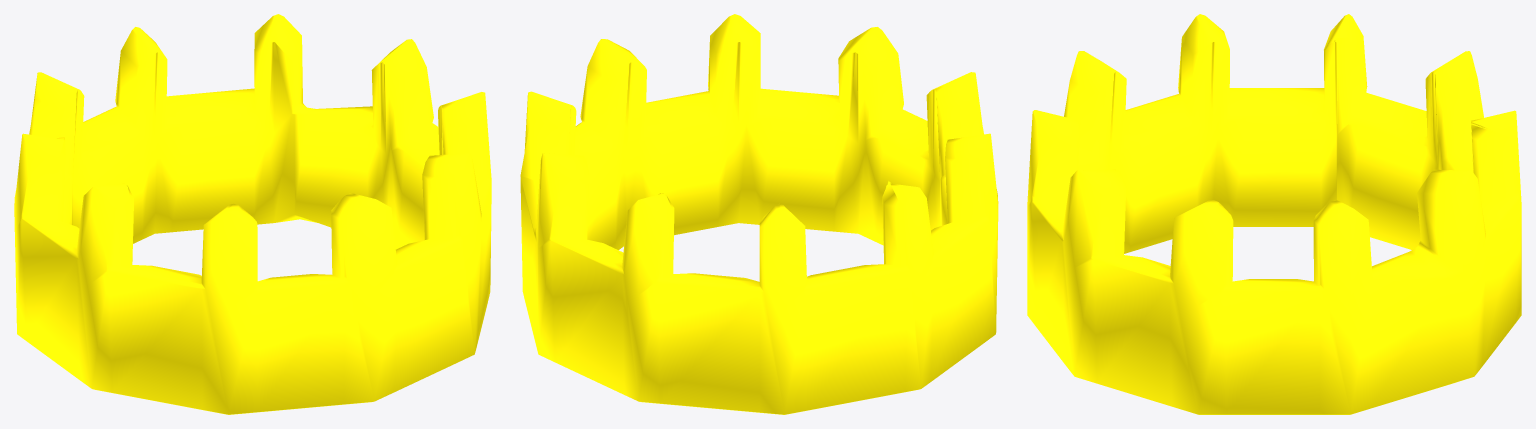
The model's file is MadeByJawns_ItchIO_GameItems_v1_0_1_Crown.glb.
3 renders of one model, left to right at view 1: azimuth 30°, elevation 25°; view 2: azimuth 150°, elevation 25°; view 3: azimuth 270°, elevation 25°, orthographic. The views are drawn at different scales.
Parts seen in each view (by area): view 1: Crown; view 2: Crown; view 3: Crown.
Boxes of the visible parts, bbox=[...] form: Crown: bbox=[14, 14, 491, 414]; Crown: bbox=[520, 14, 998, 414]; Crown: bbox=[1027, 14, 1521, 414].
Size of the model in its own units: 5.37 by 2.54 by 5.53.
